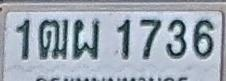1: (15, 18, 30, 59), (116, 18, 131, 59)
3: (166, 18, 186, 58)
6: (193, 18, 214, 58)
7: (139, 18, 161, 59)
A18: (38, 18, 68, 59)
A28: (72, 18, 100, 59)
